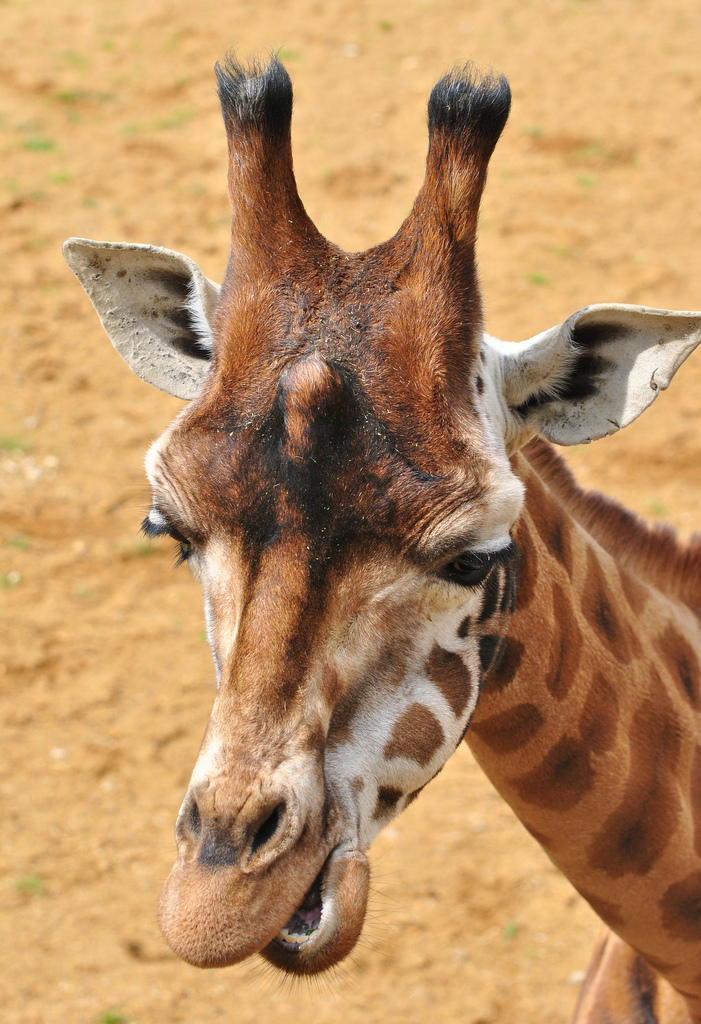giraffe: (88, 33, 645, 988)
